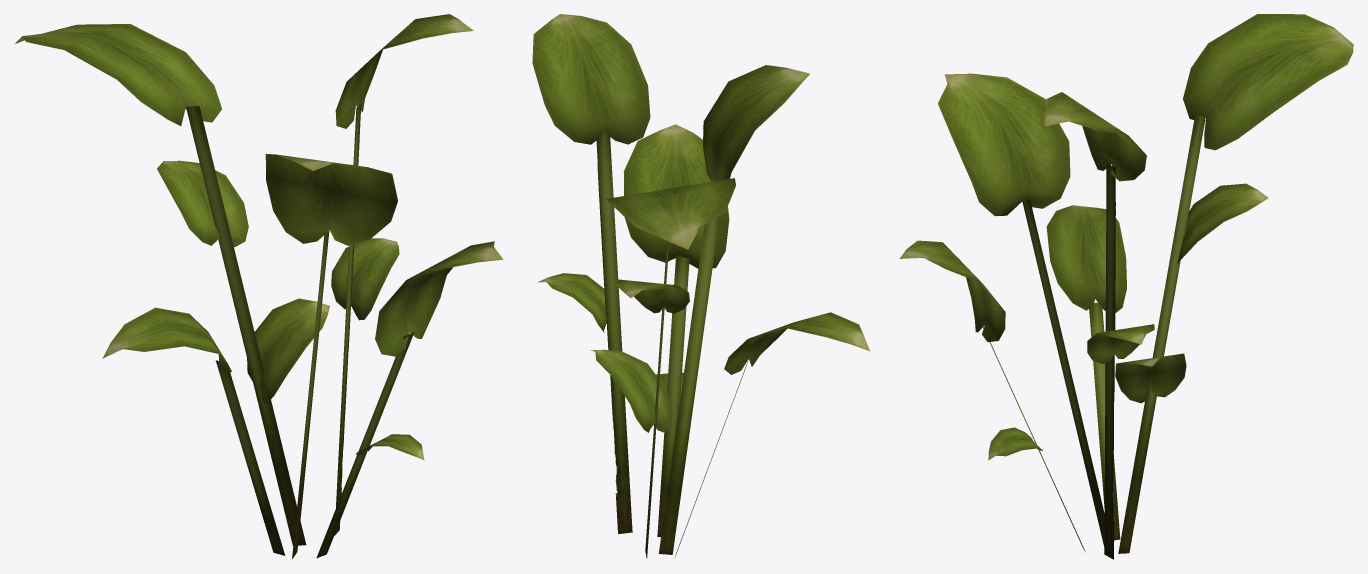
The model's file is leafplant11_lod0.fbx.
3 views of the same model, side by side, from view 1: azimuth 30°, elevation 25°; view 2: azimuth 150°, elevation 25°; view 3: azimuth 270°, elevation 25° (orthographic). The views are drawn at different scales.
Visible parts, largest first — view 1: Mesh Object; view 2: Mesh Object; view 3: Mesh Object.
Boxes of the visible parts, bbox=[...] form: Mesh Object: bbox=[15, 14, 503, 559]; Mesh Object: bbox=[532, 14, 870, 558]; Mesh Object: bbox=[899, 14, 1353, 559].
Size of the model in its own units: 1.02 by 1.43 by 1.19.
